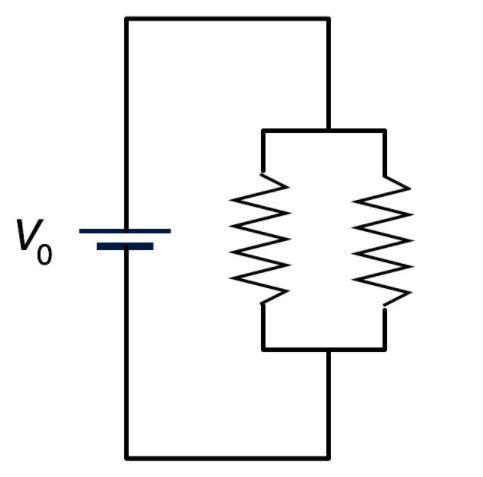resistor: (211, 160, 326, 339), (336, 148, 416, 317)
